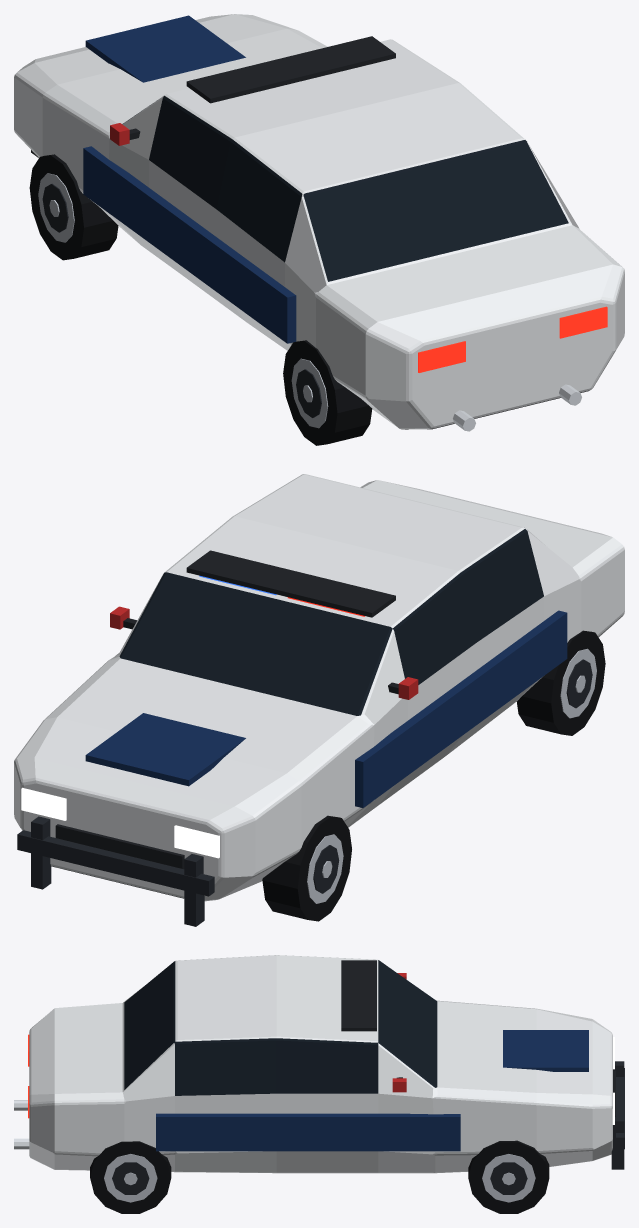
Rendered from traffic_police.glb.
3 renders of one model, top to bottom at view 1: azimuth 30°, elevation 25°; view 2: azimuth 150°, elevation 25°; view 3: azimuth 270°, elevation 25°, orthographic. The views are drawn at different scales.
Visible parts, largest first — view 1: Body, Wheel_FL, Wheel_RL; view 2: Body, Wheel_FL, Wheel_RL; view 3: Body, Wheel_FR, Wheel_RR.
Part boxes in pixels (x1,y1,x2,y2): Body: (14, 14, 624, 431); Wheel_FL: (29, 154, 118, 260); Wheel_RL: (283, 340, 372, 445); Body: (14, 474, 624, 926); Wheel_FL: (262, 815, 351, 921); Wheel_RL: (516, 630, 605, 735); Body: (14, 955, 624, 1173); Wheel_FR: (468, 1140, 549, 1213); Wheel_RR: (90, 1141, 171, 1213).
Bounding box in the file's own units: 2.03 × 1.49 × 4.81.
